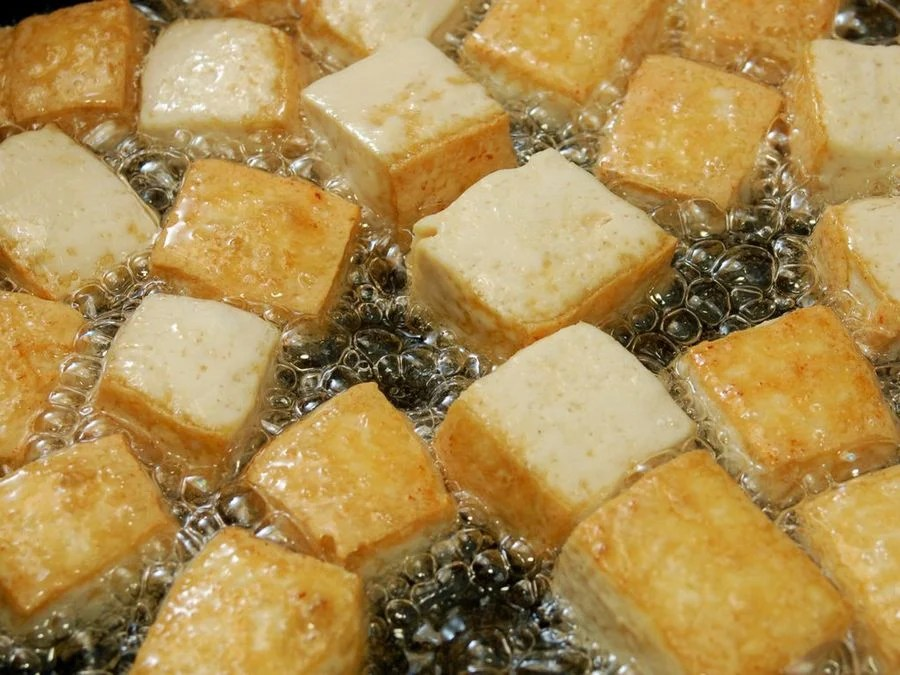Tahu: (450, 325, 658, 526), (408, 173, 634, 350), (251, 361, 458, 547), (118, 517, 388, 658), (289, 46, 491, 209), (1, 138, 169, 315), (147, 260, 310, 427), (607, 69, 782, 212), (31, 424, 182, 586), (169, 167, 340, 300), (112, 25, 306, 138), (735, 53, 900, 177)
